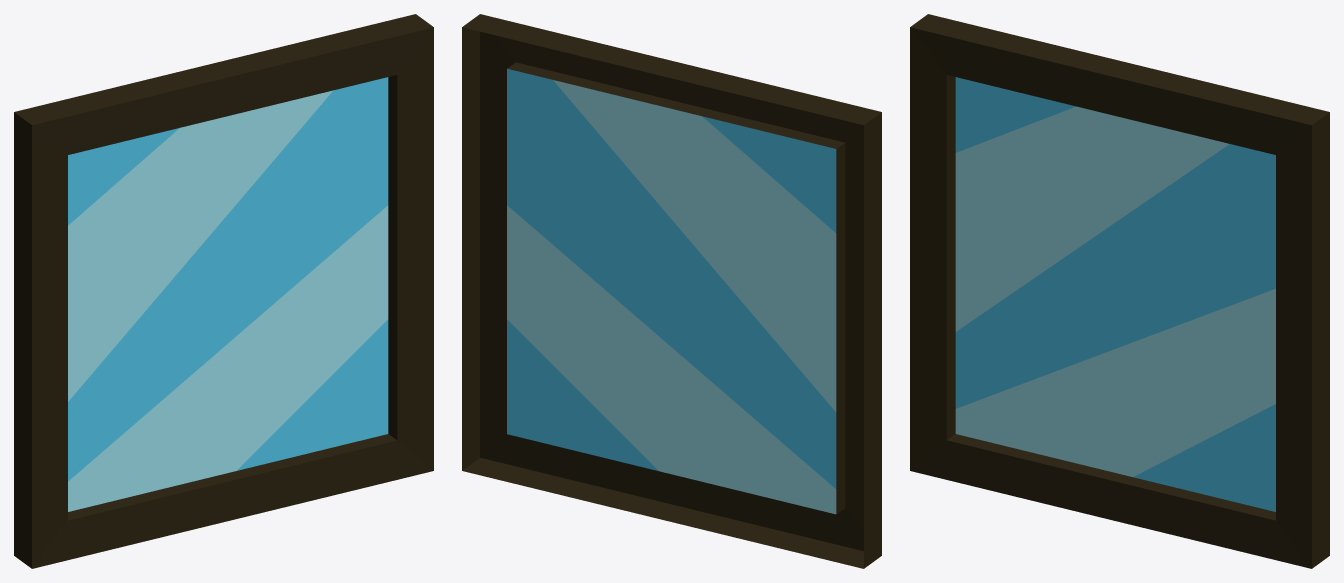
File: Prop_BuildingWindow_06.fbx
The picture shows the model from 3 angles, left to right: view 1: azimuth 30°, elevation 25°; view 2: azimuth 150°, elevation 25°; view 3: azimuth 330°, elevation 25°; orthographic projection.
Parts seen in each view (by area): view 1: Prop_BuildingWindow_06; view 2: Prop_BuildingWindow_06; view 3: Prop_BuildingWindow_06.
Part boxes in pixels (x1=…): Prop_BuildingWindow_06: x1=14, y1=14, x2=433, y2=568; Prop_BuildingWindow_06: x1=462, y1=14, x2=881, y2=568; Prop_BuildingWindow_06: x1=910, y1=14, x2=1329, y2=568.
Bounding box in the file's own units: 109 × 115 × 8.49.
